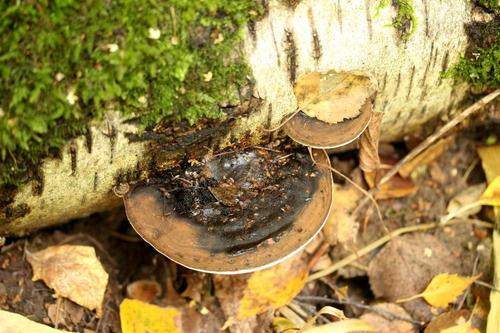Ganoderma - Fruit Body: (122, 150, 333, 276), (283, 95, 375, 147)
